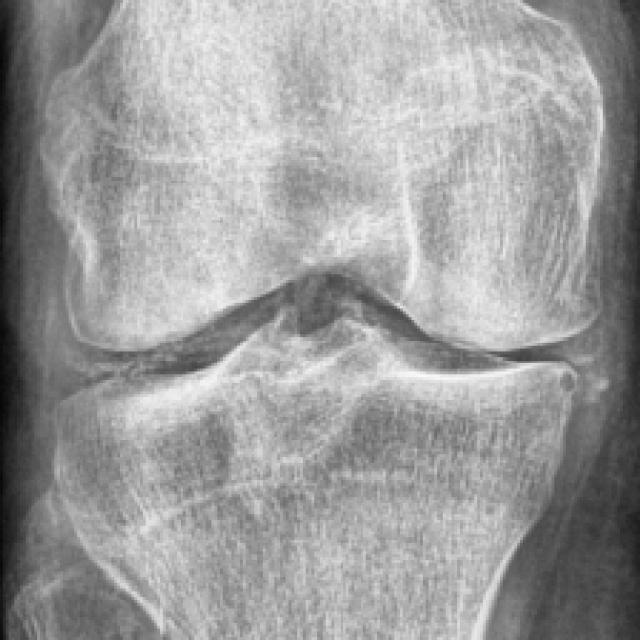femur: (33, 1, 605, 353)
tibia: (51, 314, 571, 637)
